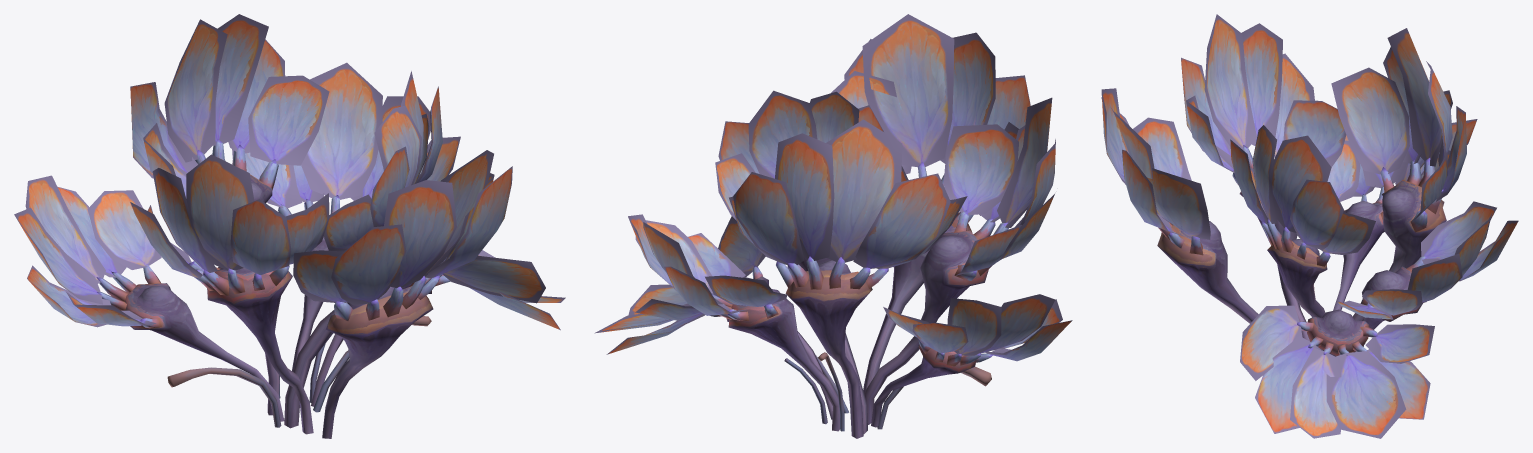
The model's file is Homeworld_Exterior_Xm_Plant_Grass_Desert_12_Lod0.fbx.
3 renders of one model, left to right at view 1: azimuth 30°, elevation 25°; view 2: azimuth 150°, elevation 25°; view 3: azimuth 270°, elevation 25°, orthographic. The views are drawn at different scales.
Visible parts, largest first — view 1: Area_Xm_Grass_CWSM_Lsz_02_Lod0; view 2: Area_Xm_Grass_CWSM_Lsz_02_Lod0; view 3: Area_Xm_Grass_CWSM_Lsz_02_Lod0.
Boxes of the visible parts, left/top/right/bottom form: Area_Xm_Grass_CWSM_Lsz_02_Lod0: left=14, top=14, right=565, bottom=438; Area_Xm_Grass_CWSM_Lsz_02_Lod0: left=594, top=14, right=1072, bottom=438; Area_Xm_Grass_CWSM_Lsz_02_Lod0: left=1101, top=14, right=1518, bottom=438.
Size of the model in its own units: 3.76 by 2.72 by 3.06.
Materials: 1 (1 with a texture image).
